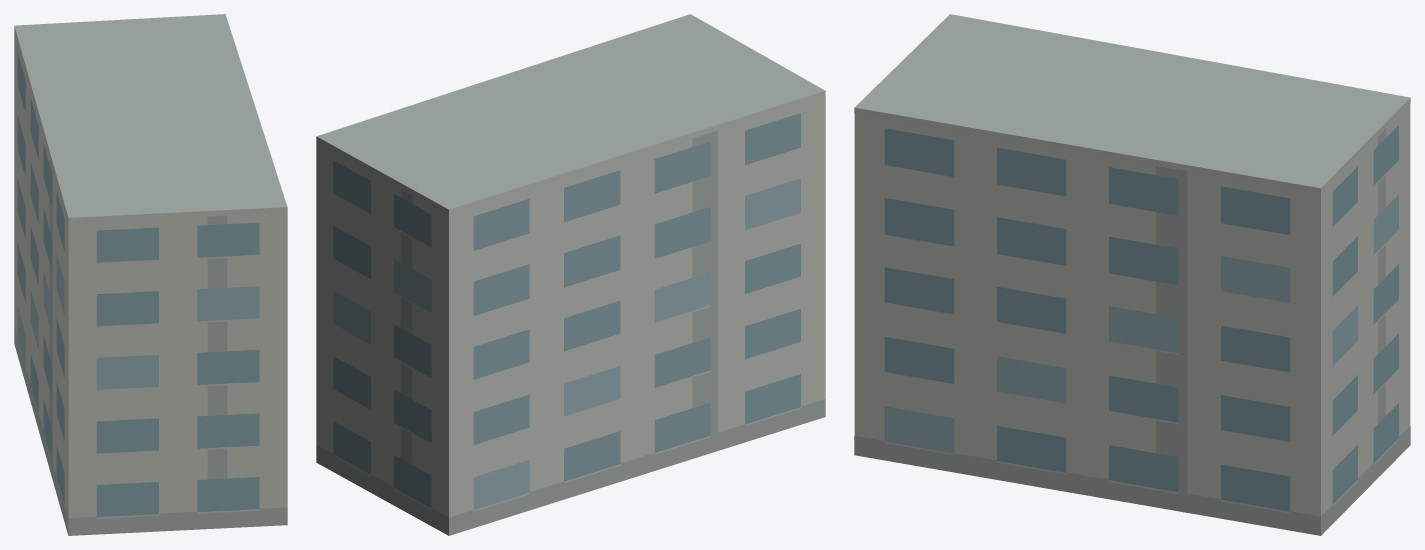
File: survey-upis-32520783.glb
3 views of the same model, side by side, from view 1: azimuth 30°, elevation 25°; view 2: azimuth 150°, elevation 25°; view 3: azimuth 270°, elevation 25° (orthographic). The views are drawn at different scales.
Parts seen in each view (by area): view 1: survey-upis-32520783.tmp; view 2: survey-upis-32520783.tmp; view 3: survey-upis-32520783.tmp.
Boxes of the visible parts, x1,y1,x2,y2 form: survey-upis-32520783.tmp: (14,14,287,535); survey-upis-32520783.tmp: (316,14,825,535); survey-upis-32520783.tmp: (854,14,1410,535).
Size of the model in its own units: 14.74 by 13.7 by 19.87.
